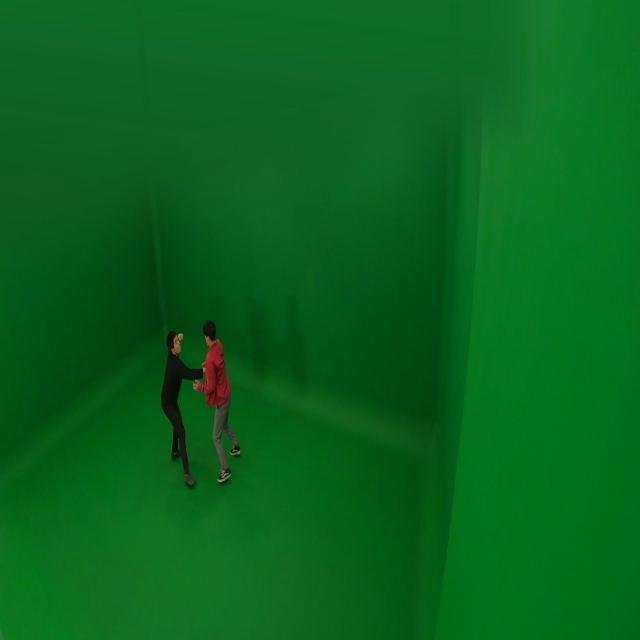fight: (158, 319, 240, 490)
